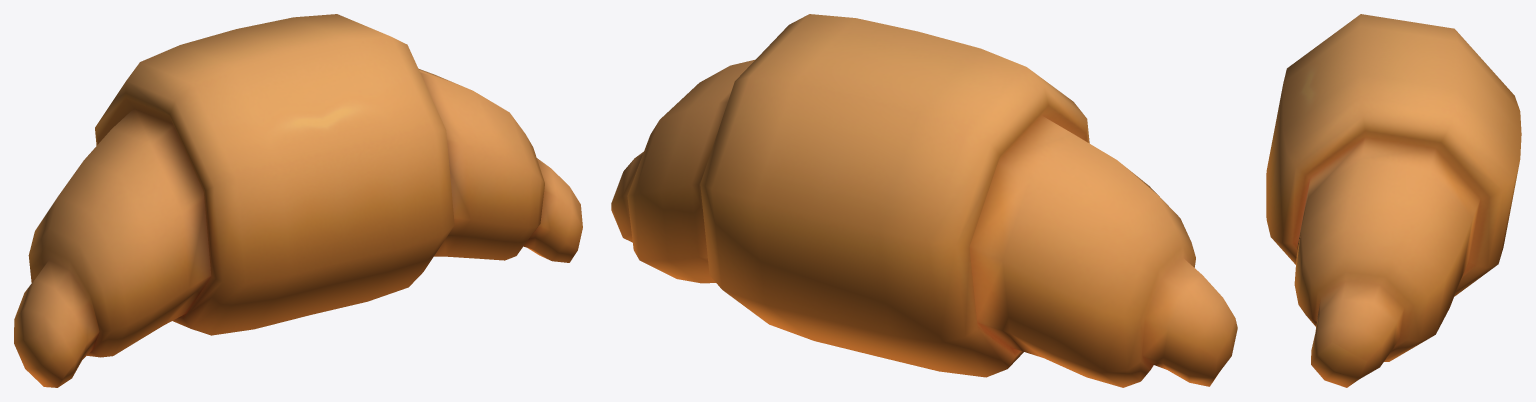
The model's file is Croissant.fbx.
3 renders of one model, left to right at view 1: azimuth 30°, elevation 25°; view 2: azimuth 150°, elevation 25°; view 3: azimuth 270°, elevation 25°, orthographic. The views are drawn at different scales.
Parts seen in each view (by area): view 1: Croissant; view 2: Croissant; view 3: Croissant.
Boxes of the visible parts, left/top/right/bottom form: Croissant: left=14, top=14, right=582, bottom=387; Croissant: left=611, top=14, right=1237, bottom=387; Croissant: left=1266, top=14, right=1521, bottom=387.
Size of the model in its own units: 26.54 by 12.29 by 12.27.
Materials: 1 (1 with a texture image).
